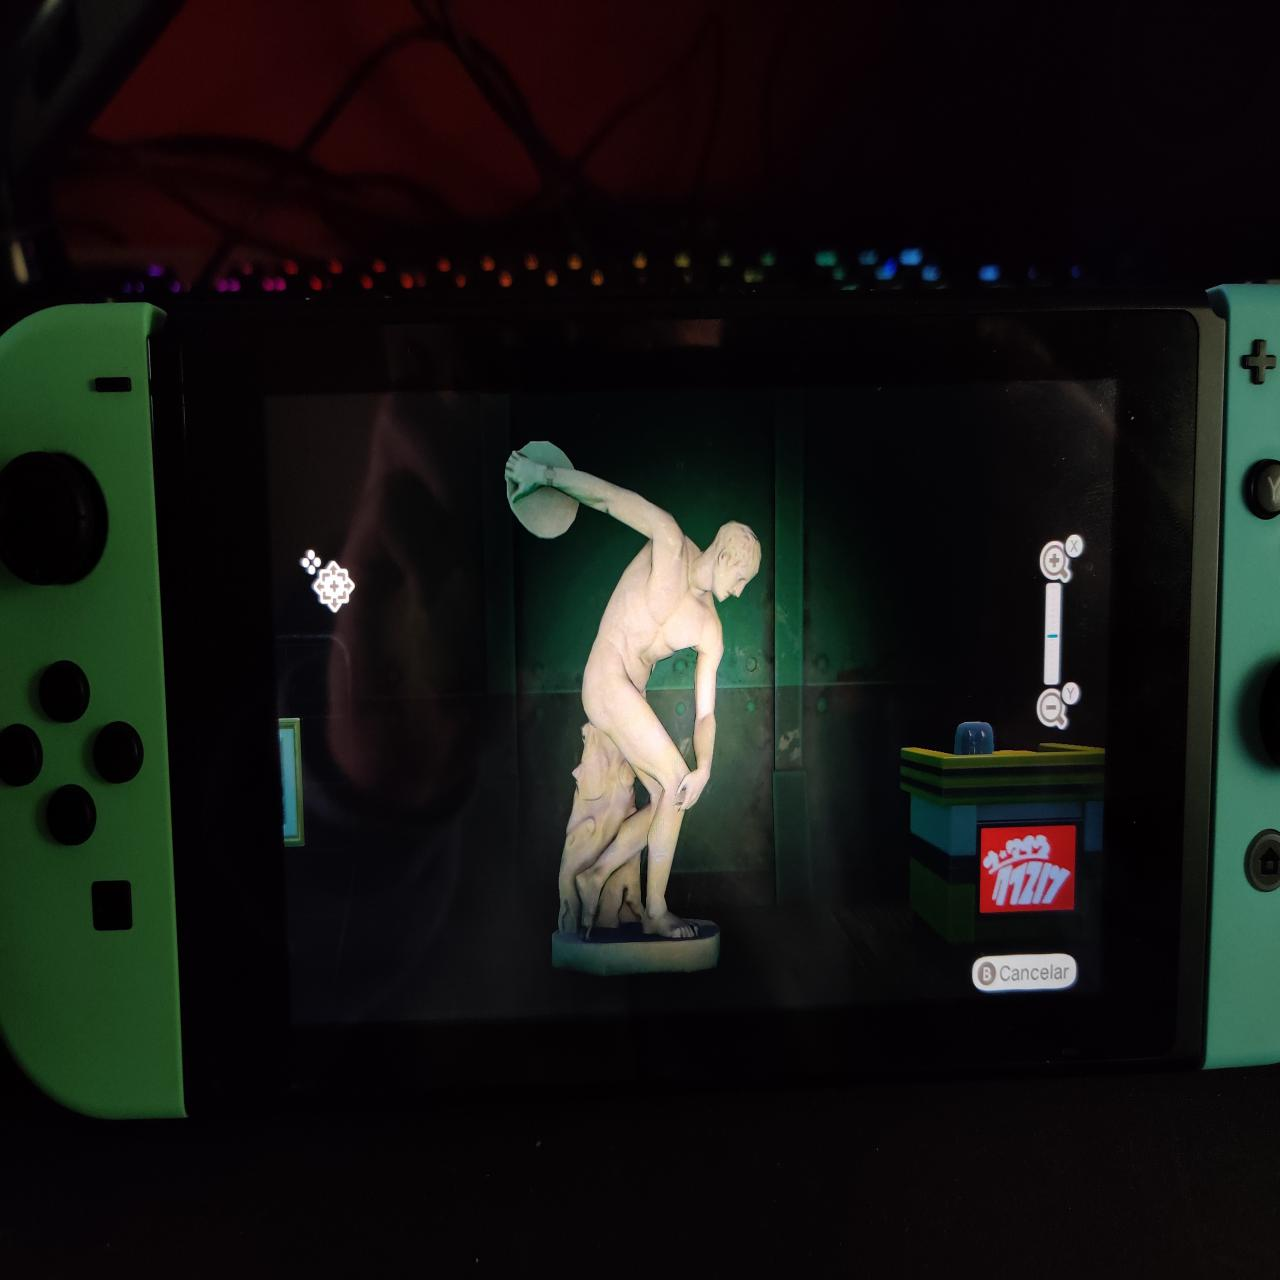DiskobolosFake: (503, 408, 772, 988)
